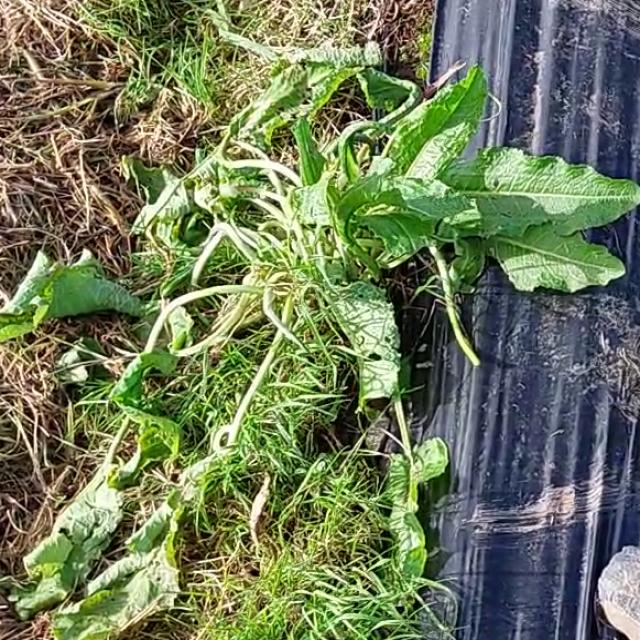organic waste: (19, 51, 622, 640)
